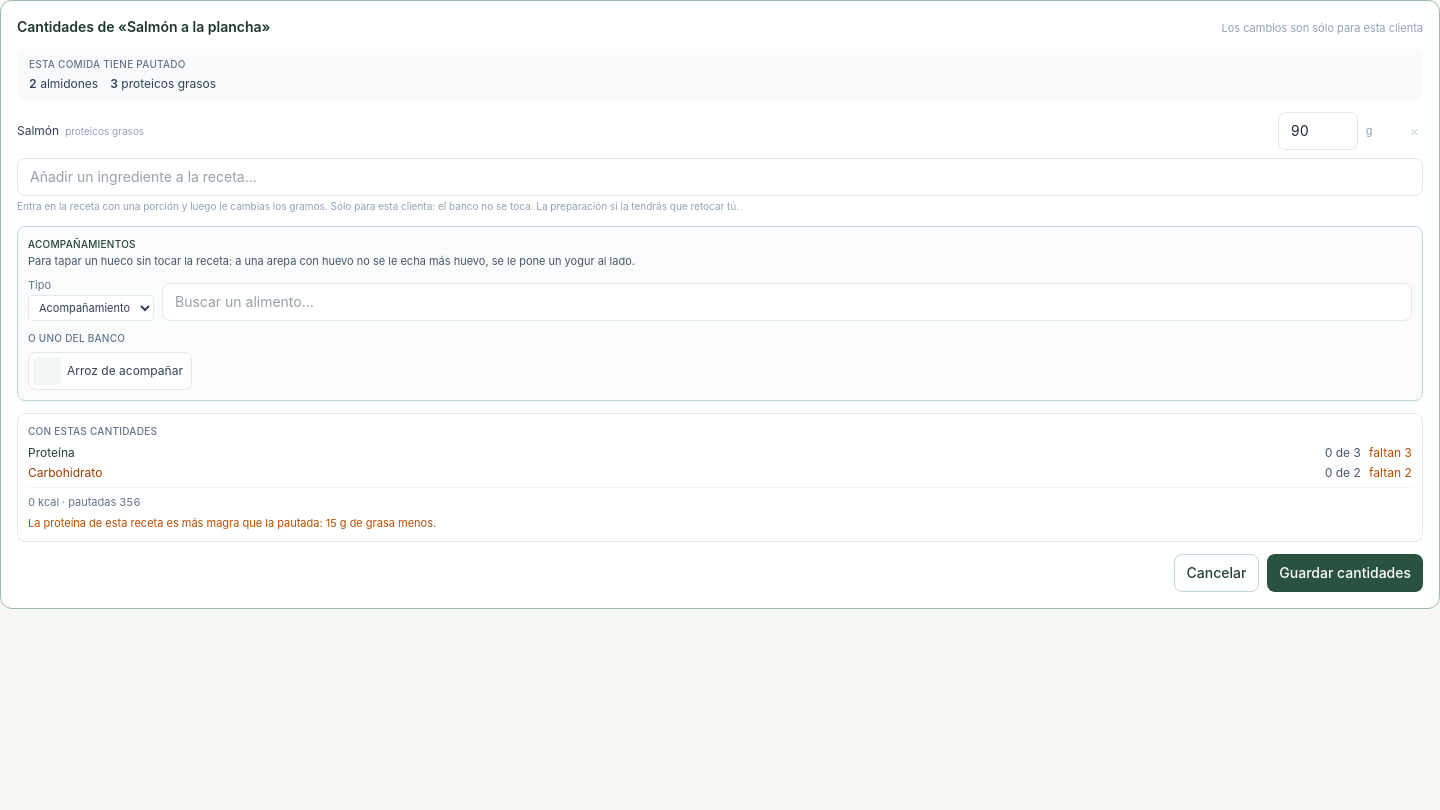
Test: Lo puesto en el panel › sale agrupado bajo el nombre del acompañamiento
Click the button "Arroz de acompañar" at (110, 371), box [28,352,192,390]
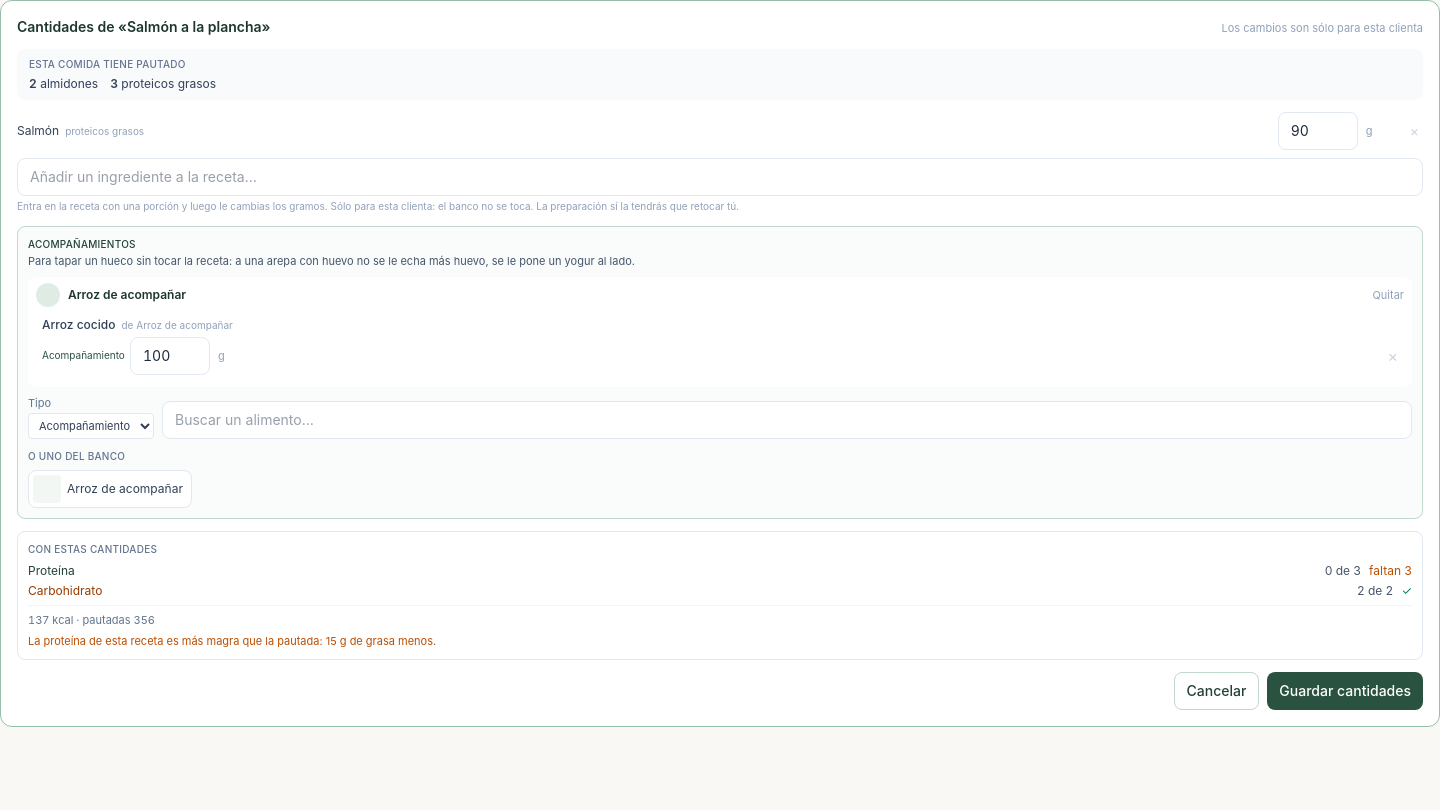
Now the text "Arroz cocido" is shown, box [42,317,116,333]
